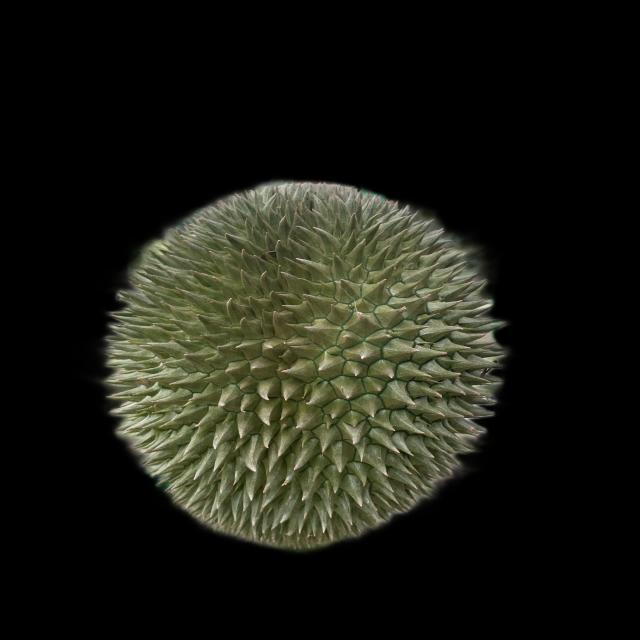immature: (98, 184, 500, 550)
